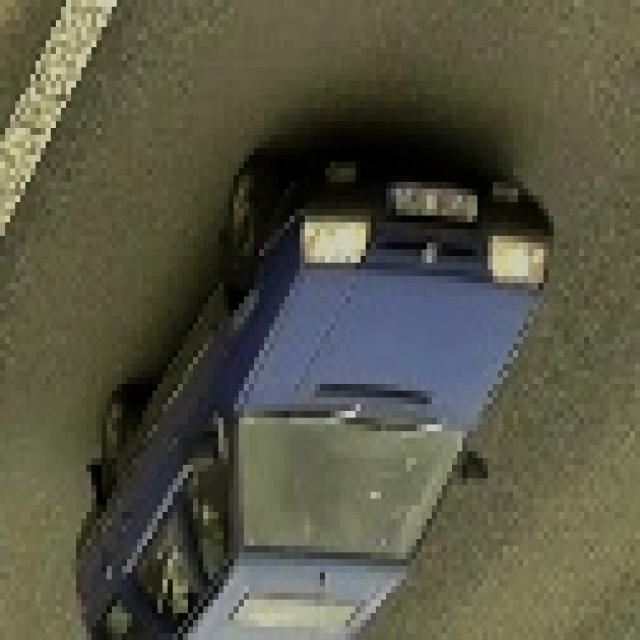blue: (84, 138, 552, 638)
